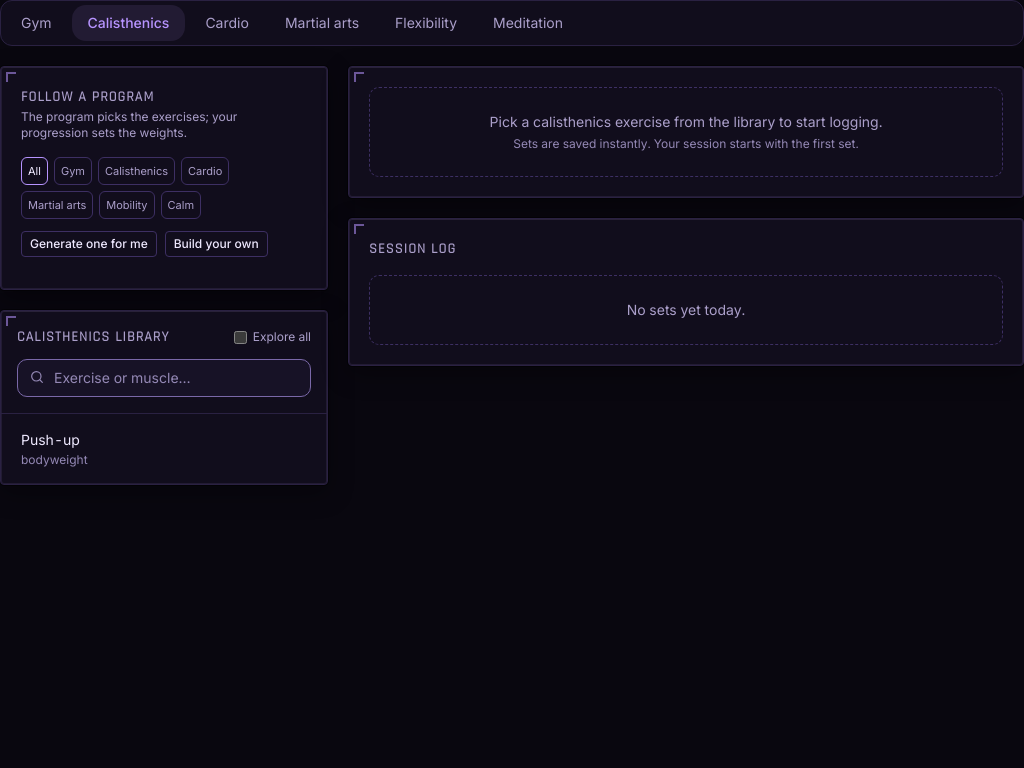
Training page › follows the loadout: no gym kit opens on Calisthenics and hides moves that need kit
This screenshot has width=1024, height=768.
Expected: the text "Push-up" is shown, top-left (21, 431), bottom-right (80, 448)
Expected: the text "Pull-up" is not shown
Click the checkbox labelled "Explore all" at {"x": 240, "y": 337}, box top-left (234, 330), bottom-right (247, 344)
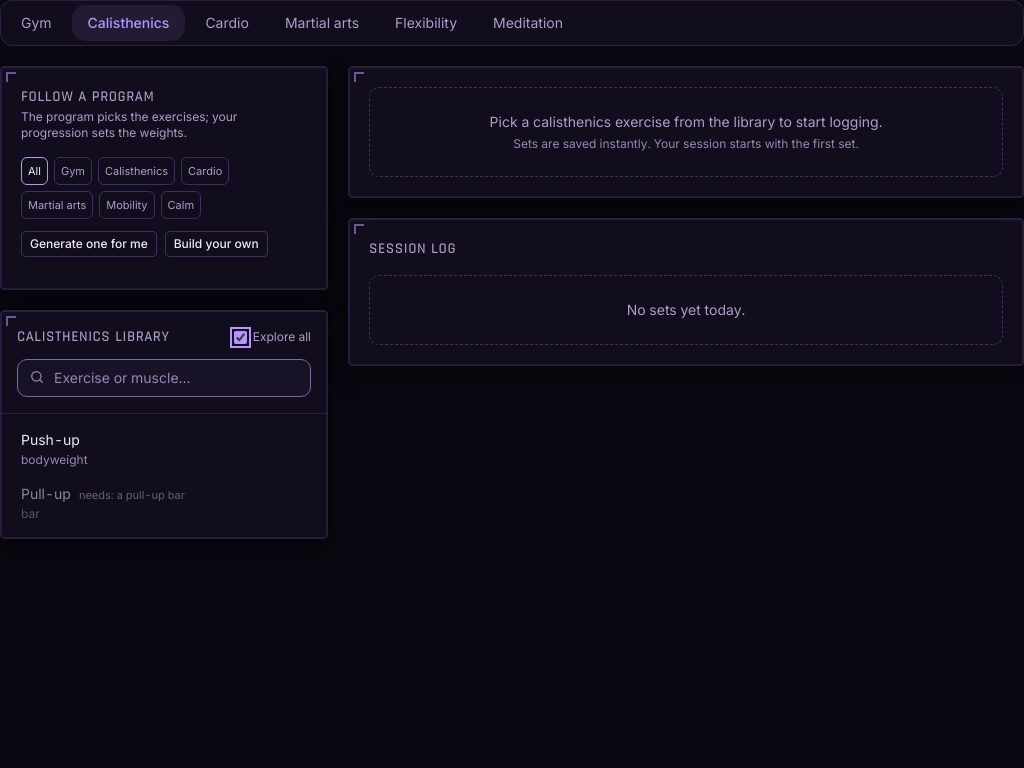
Expected: the text "Pull-up" is shown, top-left (21, 485), bottom-right (71, 502)
Expected: the text "needs: a pull-up bar" is shown, top-left (79, 488), bottom-right (185, 502)
